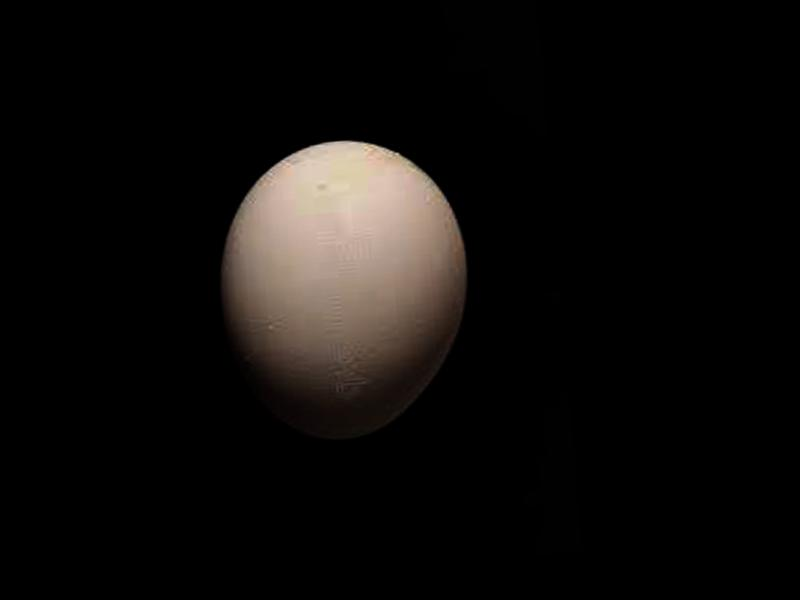Eggs: (210, 128, 479, 447)
